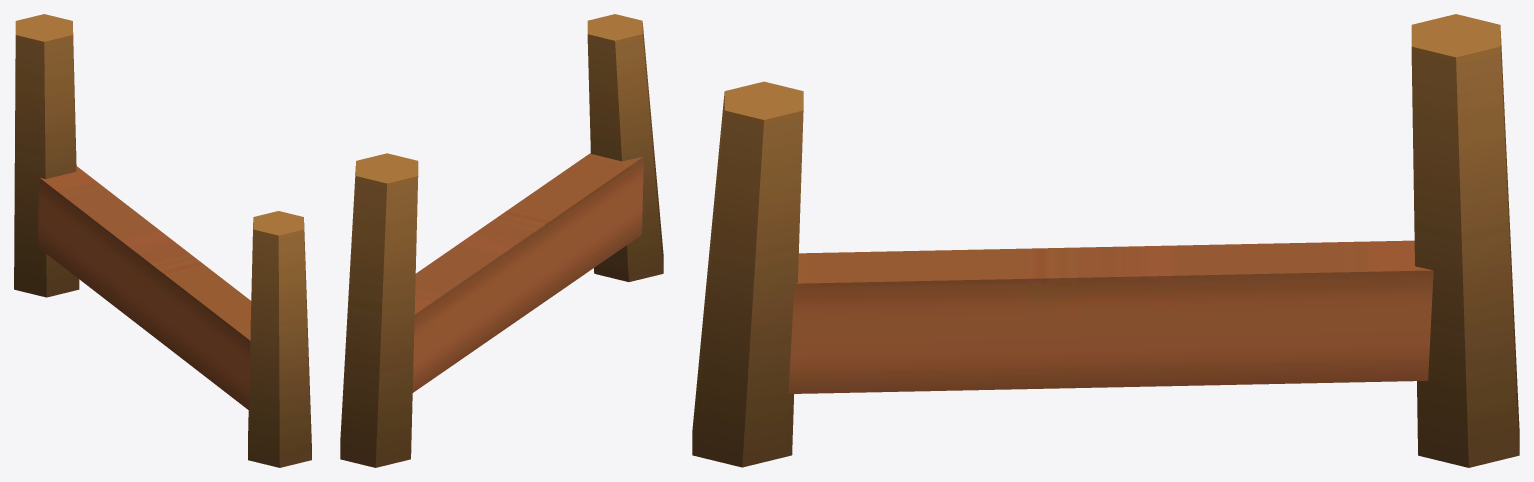
Rendered from Fence_02.fbx.
3 views of the same model, side by side, from view 1: azimuth 30°, elevation 25°; view 2: azimuth 150°, elevation 25°; view 3: azimuth 270°, elevation 25° (orthographic). The views are drawn at different scales.
Parts seen in each view (by area): view 1: pCube35; view 2: pCube35; view 3: pCube35.
Part boxes in pixels (box(x1,y1,x2,y2)): pCube35: box(14, 14, 311, 467); pCube35: box(340, 14, 663, 467); pCube35: box(692, 14, 1519, 467).
Bounding box in the file's own units: 0.1876 × 0.6848 × 1.28.
